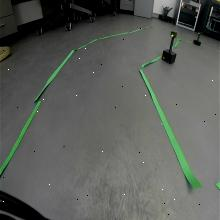green: (170, 30, 177, 38)
